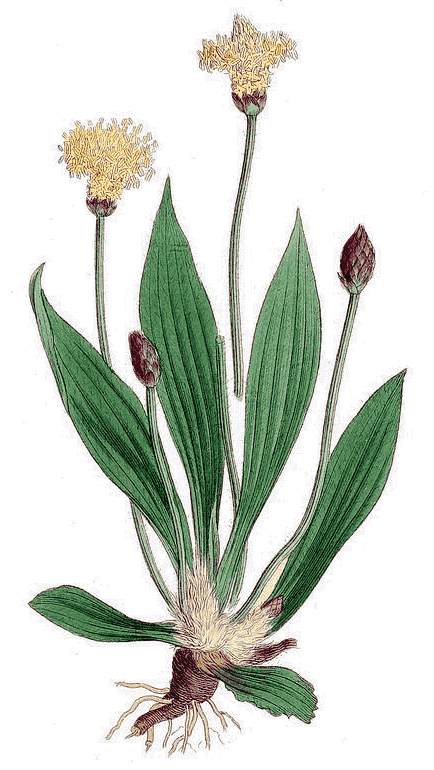buckhorn plantain: (47, 11, 406, 720)
